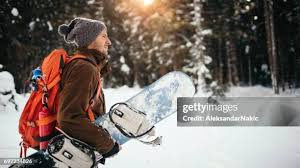snowboard: (6, 69, 198, 168)
